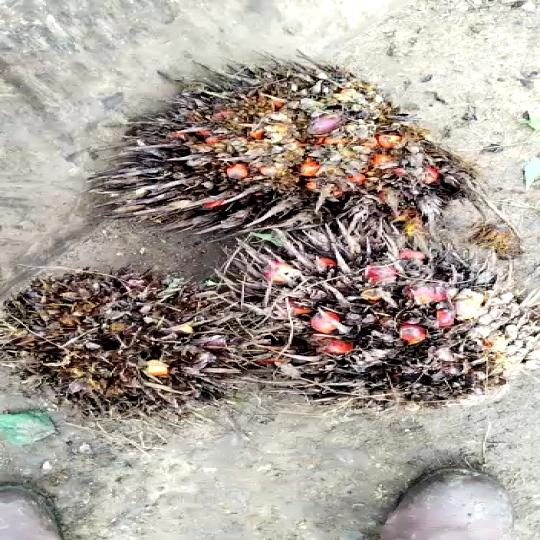terlalu masak: (119, 72, 470, 239), (199, 225, 531, 385), (0, 266, 280, 390)
